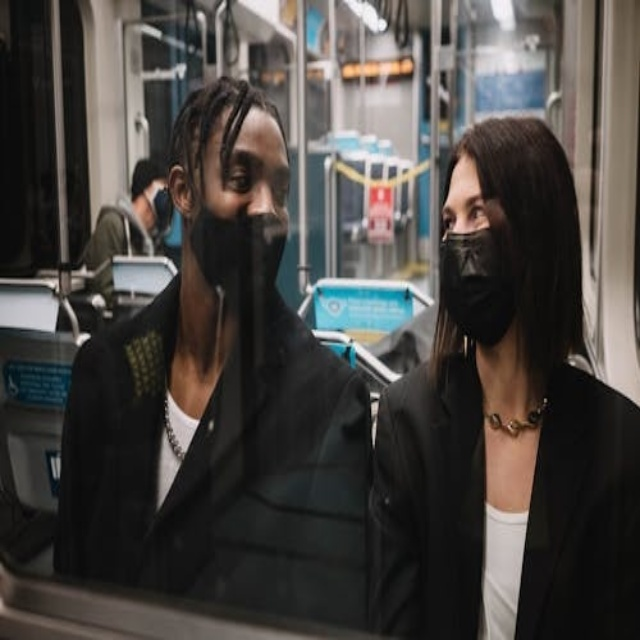Mascara: (438, 230, 524, 349), (186, 199, 293, 293)
Sin_gafas: (211, 148, 296, 207), (438, 188, 483, 226)
